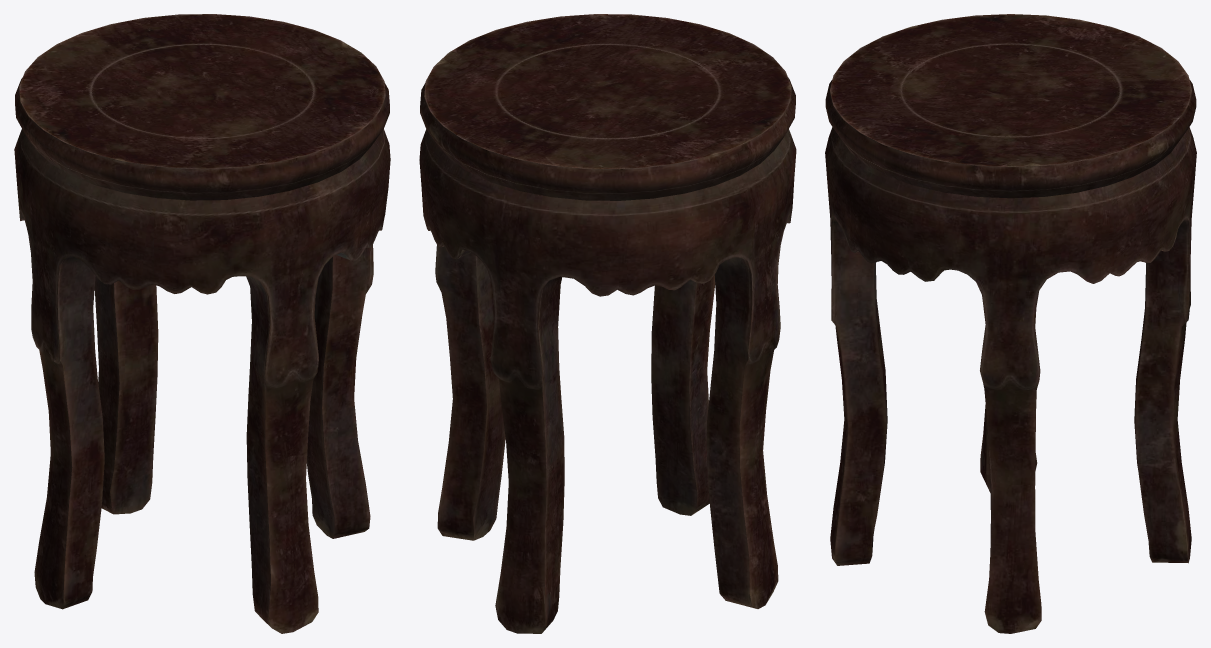
File: WoodenTable_02.glb
The picture shows the model from 3 angles, left to right: view 1: azimuth 30°, elevation 25°; view 2: azimuth 150°, elevation 25°; view 3: azimuth 270°, elevation 25°; orthographic projection.
Parts seen in each view (by area): view 1: WoodenTable_02; view 2: WoodenTable_02; view 3: WoodenTable_02.
Boxes of the visible parts, x1,y1,x2,y2 form: WoodenTable_02: (14, 14, 390, 633); WoodenTable_02: (419, 14, 796, 633); WoodenTable_02: (825, 14, 1196, 633).
Bounding box in the file's own units: 0.3007 × 0.4177 × 0.3007.
Materials: 1 (1 with a texture image).
